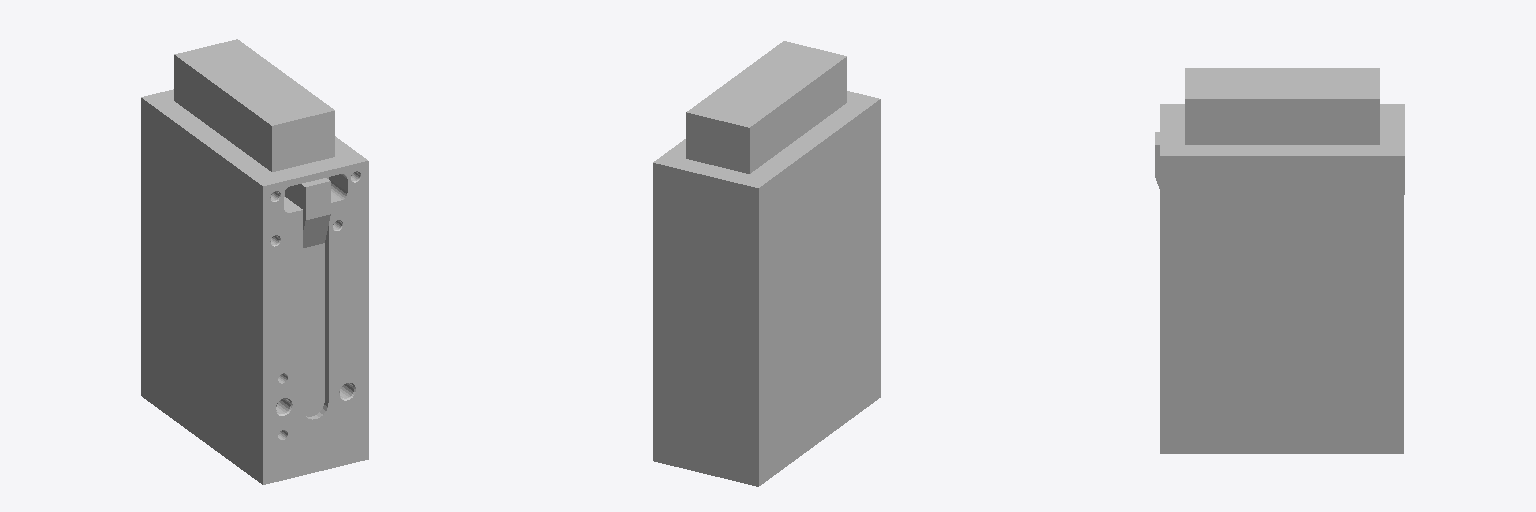
Rendered from pillow.obj.
3 views of the same model, side by side, from view 1: azimuth 30°, elevation 25°; view 2: azimuth 150°, elevation 25°; view 3: azimuth 270°, elevation 25° (orthographic).
Parts seen in each view (by area): view 1: MATRIX_Prototyp__klon; view 2: MATRIX_Prototyp__klon; view 3: MATRIX_Prototyp__klon.
Part boxes in pixels (bbox=[...]): MATRIX_Prototyp__klon: bbox=[141, 39, 368, 484]; MATRIX_Prototyp__klon: bbox=[653, 41, 880, 486]; MATRIX_Prototyp__klon: bbox=[1155, 68, 1404, 453].
Size of the model in its own units: 0.5008 by 1.56 by 1.02.